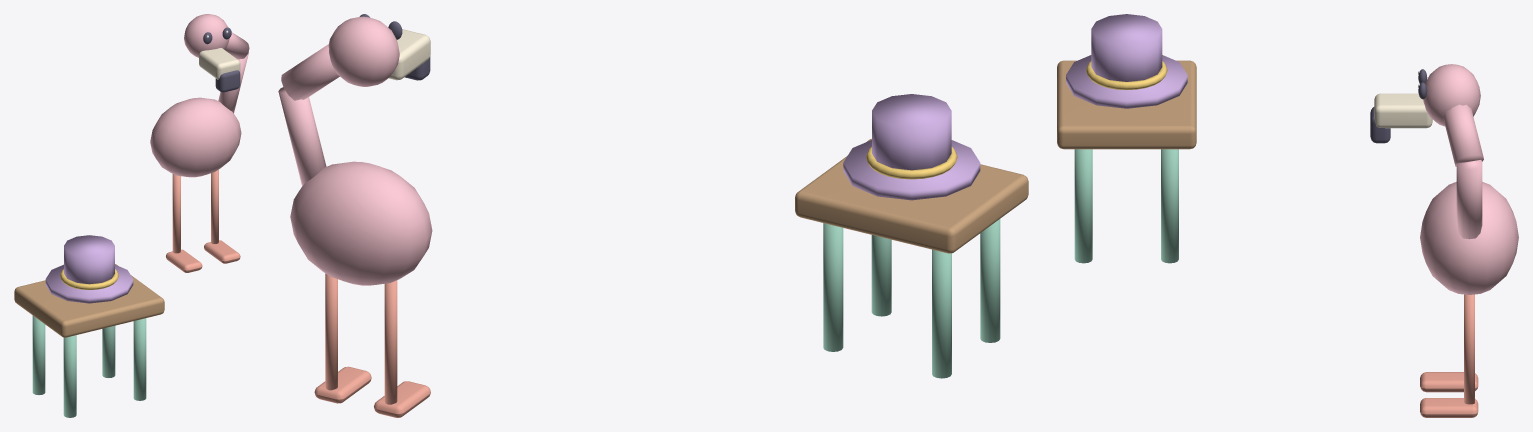
Rendered from play-flamingo.glb.
3 renders of one model, left to right at view 1: azimuth 30°, elevation 25°; view 2: azimuth 150°, elevation 25°; view 3: azimuth 270°, elevation 25°, orthographic. The views are drawn at different scales.
Visible parts, largest first — view 1: Bird surfaces, Scenery surfaces, Hat surfaces; view 2: Bird surfaces, Scenery surfaces, Hat surfaces; view 3: Bird surfaces, Scenery surfaces, Hat surfaces.
Boxes of the visible parts, box(x1,y1,x2,y2) form: Bird surfaces: box(150, 14, 249, 272); Scenery surfaces: box(14, 264, 164, 417); Hat surfaces: box(45, 235, 133, 303); Bird surfaces: box(278, 14, 432, 417); Scenery surfaces: box(795, 139, 1028, 378); Hat surfaces: box(843, 94, 980, 200); Bird surfaces: box(1370, 64, 1518, 417); Scenery surfaces: box(1057, 60, 1196, 263); Hat surfaces: box(1066, 14, 1187, 108).
Bounding box in the file's own units: 2.1 × 1.47 × 1.82.
